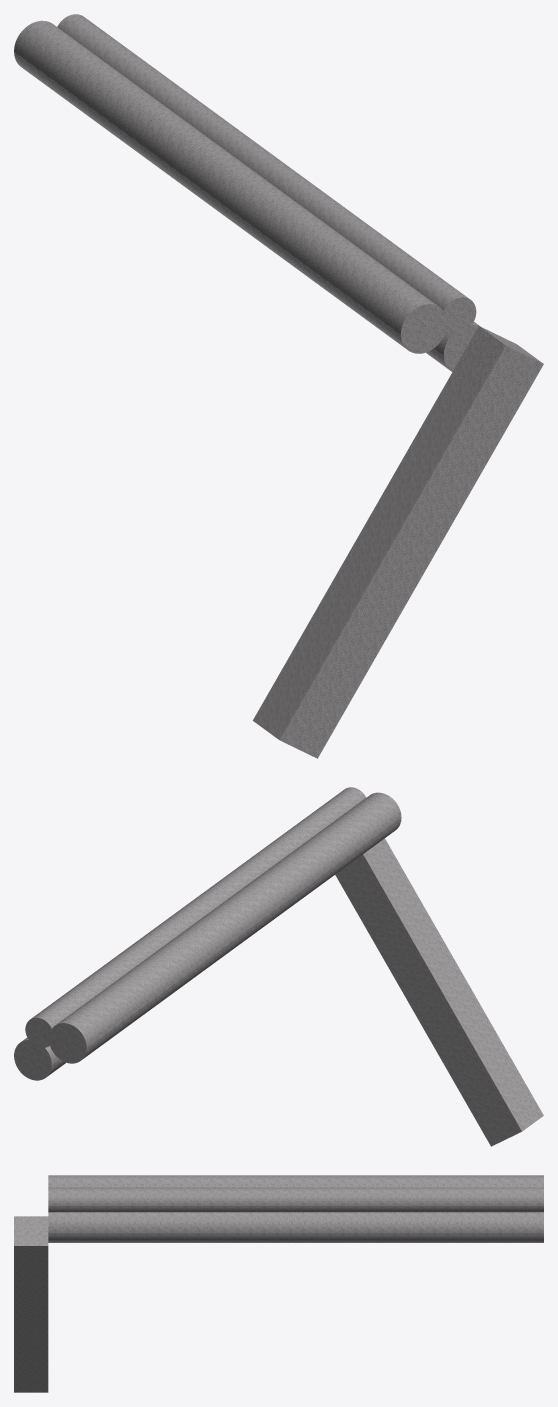
3 renders of one model, top to bottom at view 1: azimuth 30°, elevation 25°; view 2: azimuth 150°, elevation 25°; view 3: azimuth 270°, elevation 25°, orthographic. The views are drawn at different scales.
Parts seen in each view (by area): view 1: 0_2_0_3_3_1; view 2: 0_2_0_3_3_1; view 3: 0_2_0_3_3_1.
Boxes of the visible parts, bbox=[...] form: 0_2_0_3_3_1: bbox=[14, 14, 543, 758]; 0_2_0_3_3_1: bbox=[14, 787, 543, 1146]; 0_2_0_3_3_1: bbox=[14, 1175, 543, 1392].
Bounding box in the file's own units: 4.55 × 6.61 × 12.33.
4 materials, 4 textured.
